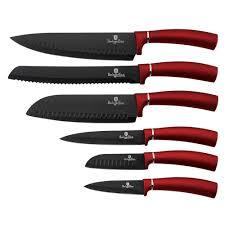Knife: (9, 28, 218, 60), (25, 90, 218, 123), (7, 60, 218, 84), (59, 126, 218, 147), (83, 176, 217, 198), (84, 150, 218, 171)
